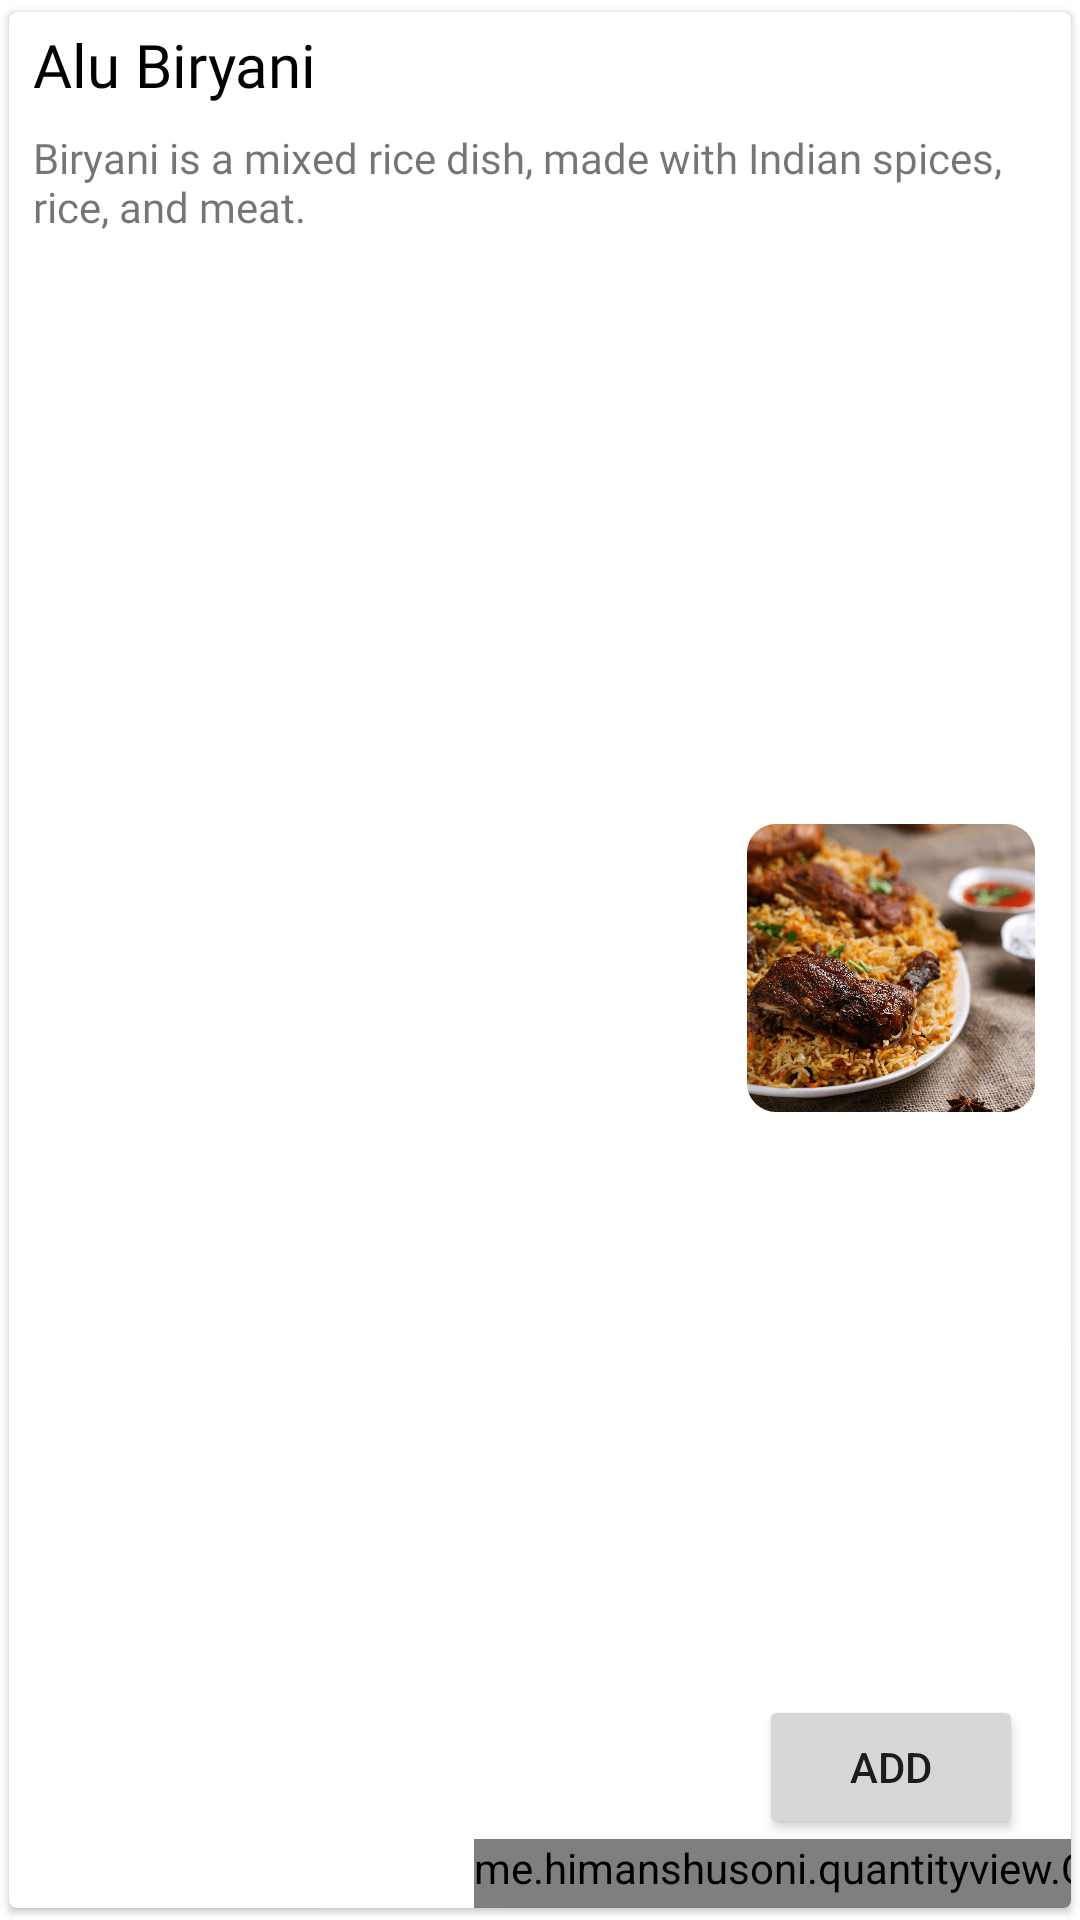

Icons on this 1080px x 1920px Android screen, each with its box as box(x1, y1, x2, y2):
biryani: box(747, 824, 1035, 1112)
